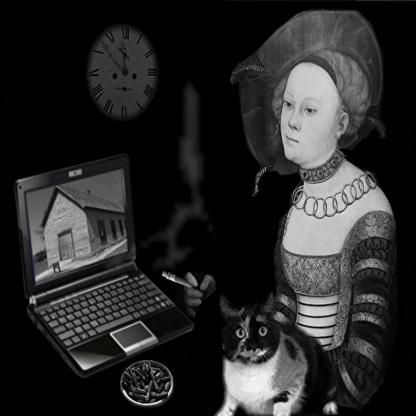board: (15, 148, 197, 386)
